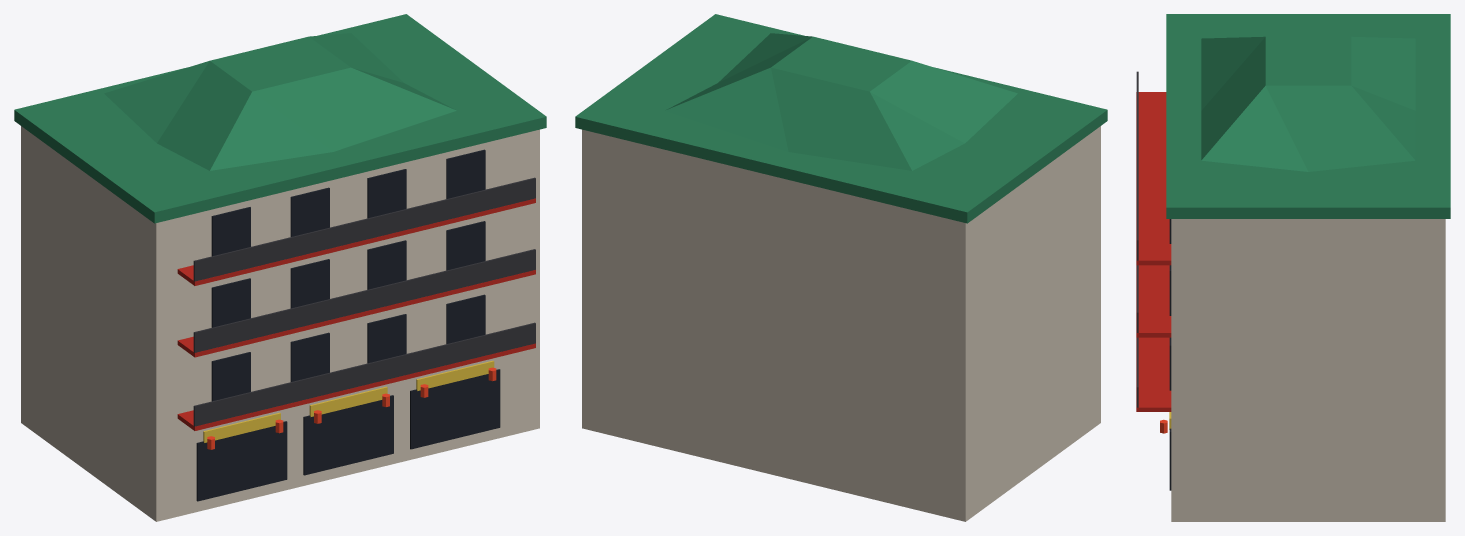
Rendered from building_eastyork_s3_chinatown_flats.glb.
3 renders of one model, left to right at view 1: azimuth 30°, elevation 25°; view 2: azimuth 150°, elevation 25°; view 3: azimuth 270°, elevation 25°, orthographic.
Visible parts, largest first — view 1: building_eastyork_s3_chinatown_flats; view 2: building_eastyork_s3_chinatown_flats; view 3: building_eastyork_s3_chinatown_flats.
Part boxes in pixels (box(x1,y1,x2,y2)): building_eastyork_s3_chinatown_flats: box(14, 14, 546, 521); building_eastyork_s3_chinatown_flats: box(575, 14, 1107, 521); building_eastyork_s3_chinatown_flats: box(1136, 14, 1450, 521).
Bounding box in the file's own units: 18.4 × 16.2 × 12.6.
1 material, 1 textured.
